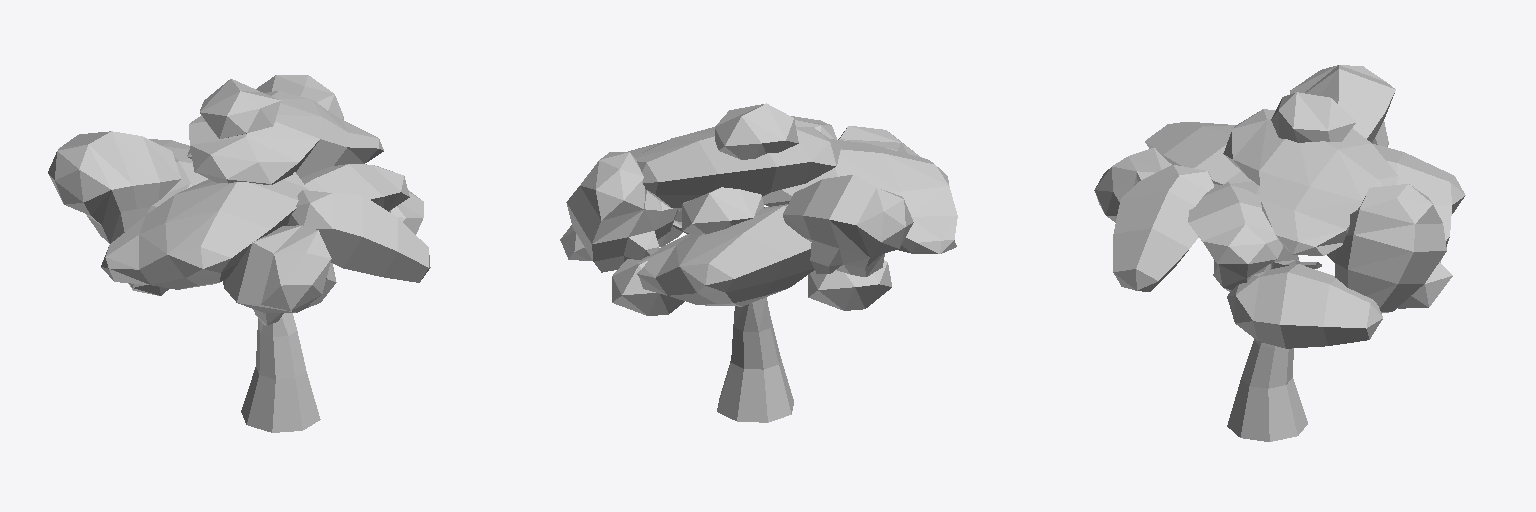
The model's file is tree3.obj.
The picture shows the model from 3 angles: view 1: azimuth 30°, elevation 25°; view 2: azimuth 150°, elevation 25°; view 3: azimuth 270°, elevation 25°; orthographic projection.
Visible parts, largest first — view 1: tree3_Icosphere.046; view 2: tree3_Icosphere.046; view 3: tree3_Icosphere.046.
Part boxes in pixels (x1,y1,x2,y2): tree3_Icosphere.046: (48, 75, 430, 432); tree3_Icosphere.046: (560, 103, 957, 422); tree3_Icosphere.046: (1094, 65, 1465, 441).
Size of the model in its own units: 19.9 by 17.99 by 18.87.